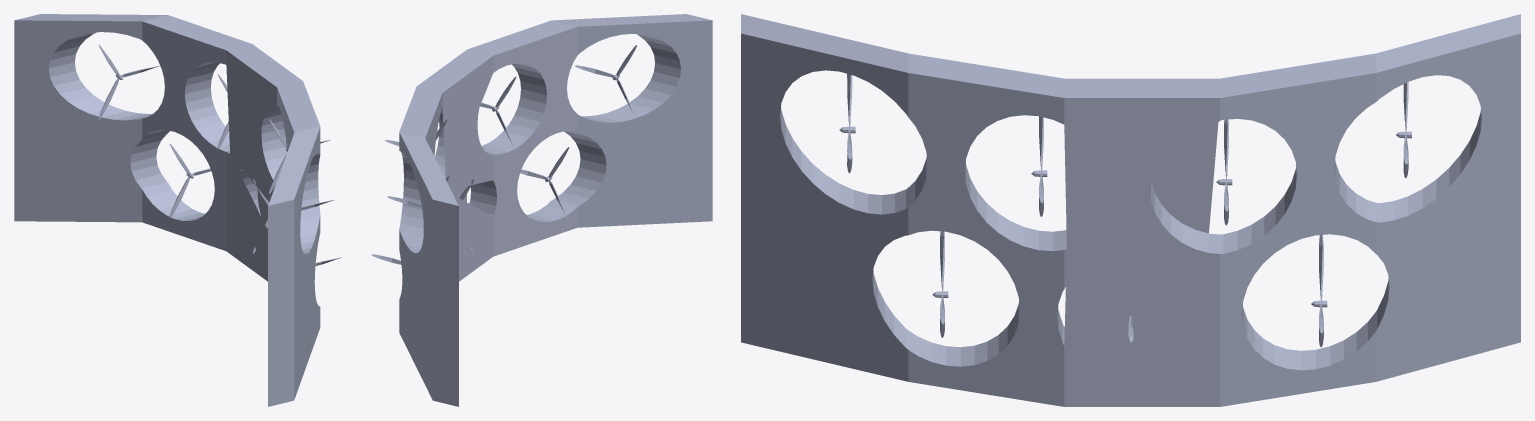
Rendered from WindWall.fbx.
The picture shows the model from 3 angles, left to right: view 1: azimuth 30°, elevation 25°; view 2: azimuth 150°, elevation 25°; view 3: azimuth 270°, elevation 25°; orthographic projection. The views are drawn at different scales.
Visible parts, largest first — view 1: Cube, Cylinder.006, Cylinder.001; view 2: Cube, Cylinder.005, Cylinder.002, Cylinder.003; view 3: Cube.
Boxes of the visible parts, box(x1,y1,x2,y2) form: Cube: box(14, 14, 320, 406); Cylinder.006: box(98, 45, 159, 119); Cylinder.001: box(169, 143, 211, 218); Cube: box(399, 14, 712, 406); Cylinder.005: box(575, 45, 636, 119); Cylinder.002: box(520, 147, 569, 221); Cylinder.003: box(480, 76, 516, 150); Cube: box(741, 14, 1520, 406).
Size of the model in its own units: 333 by 394 by 844.
